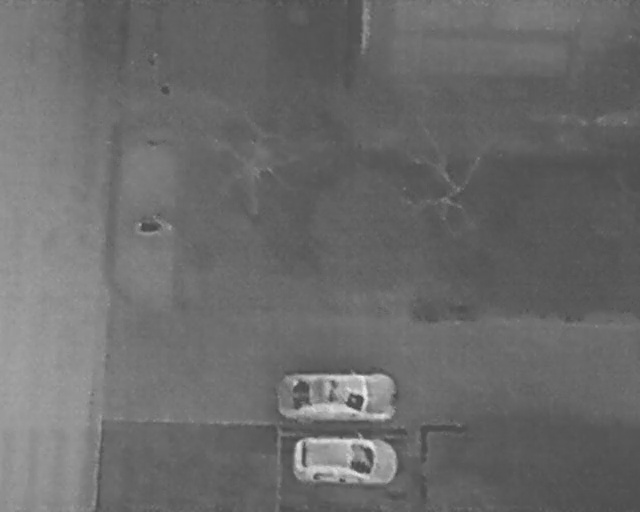Bicycle: (135, 215, 174, 235)
Car: (275, 371, 399, 423), (289, 434, 399, 486)
